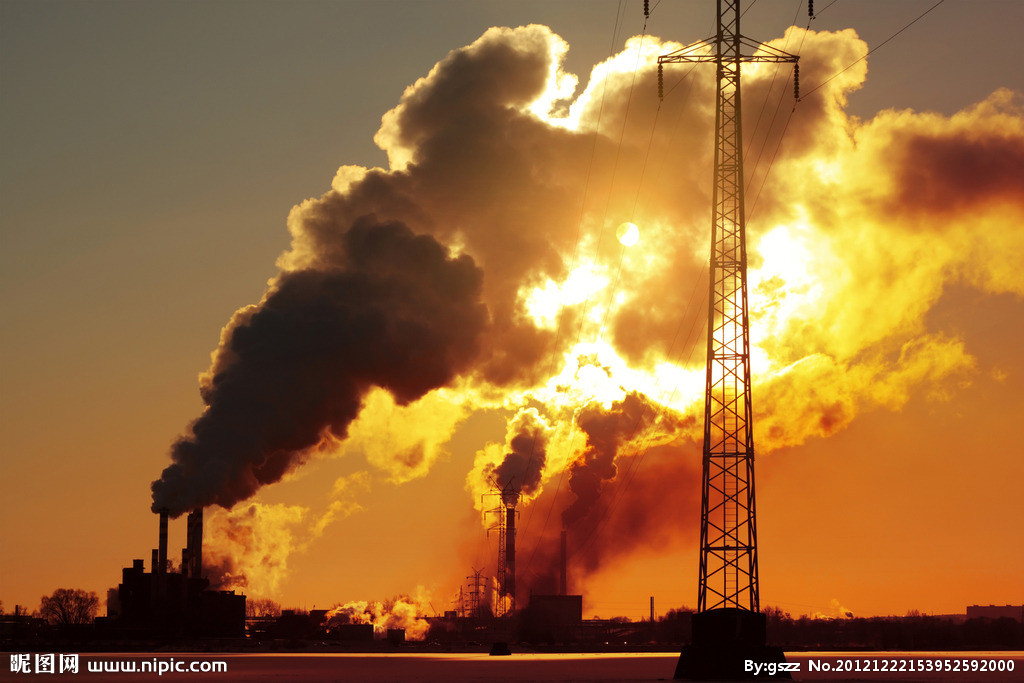dust: (148, 169, 486, 521), (548, 386, 657, 540), (474, 393, 550, 513)
